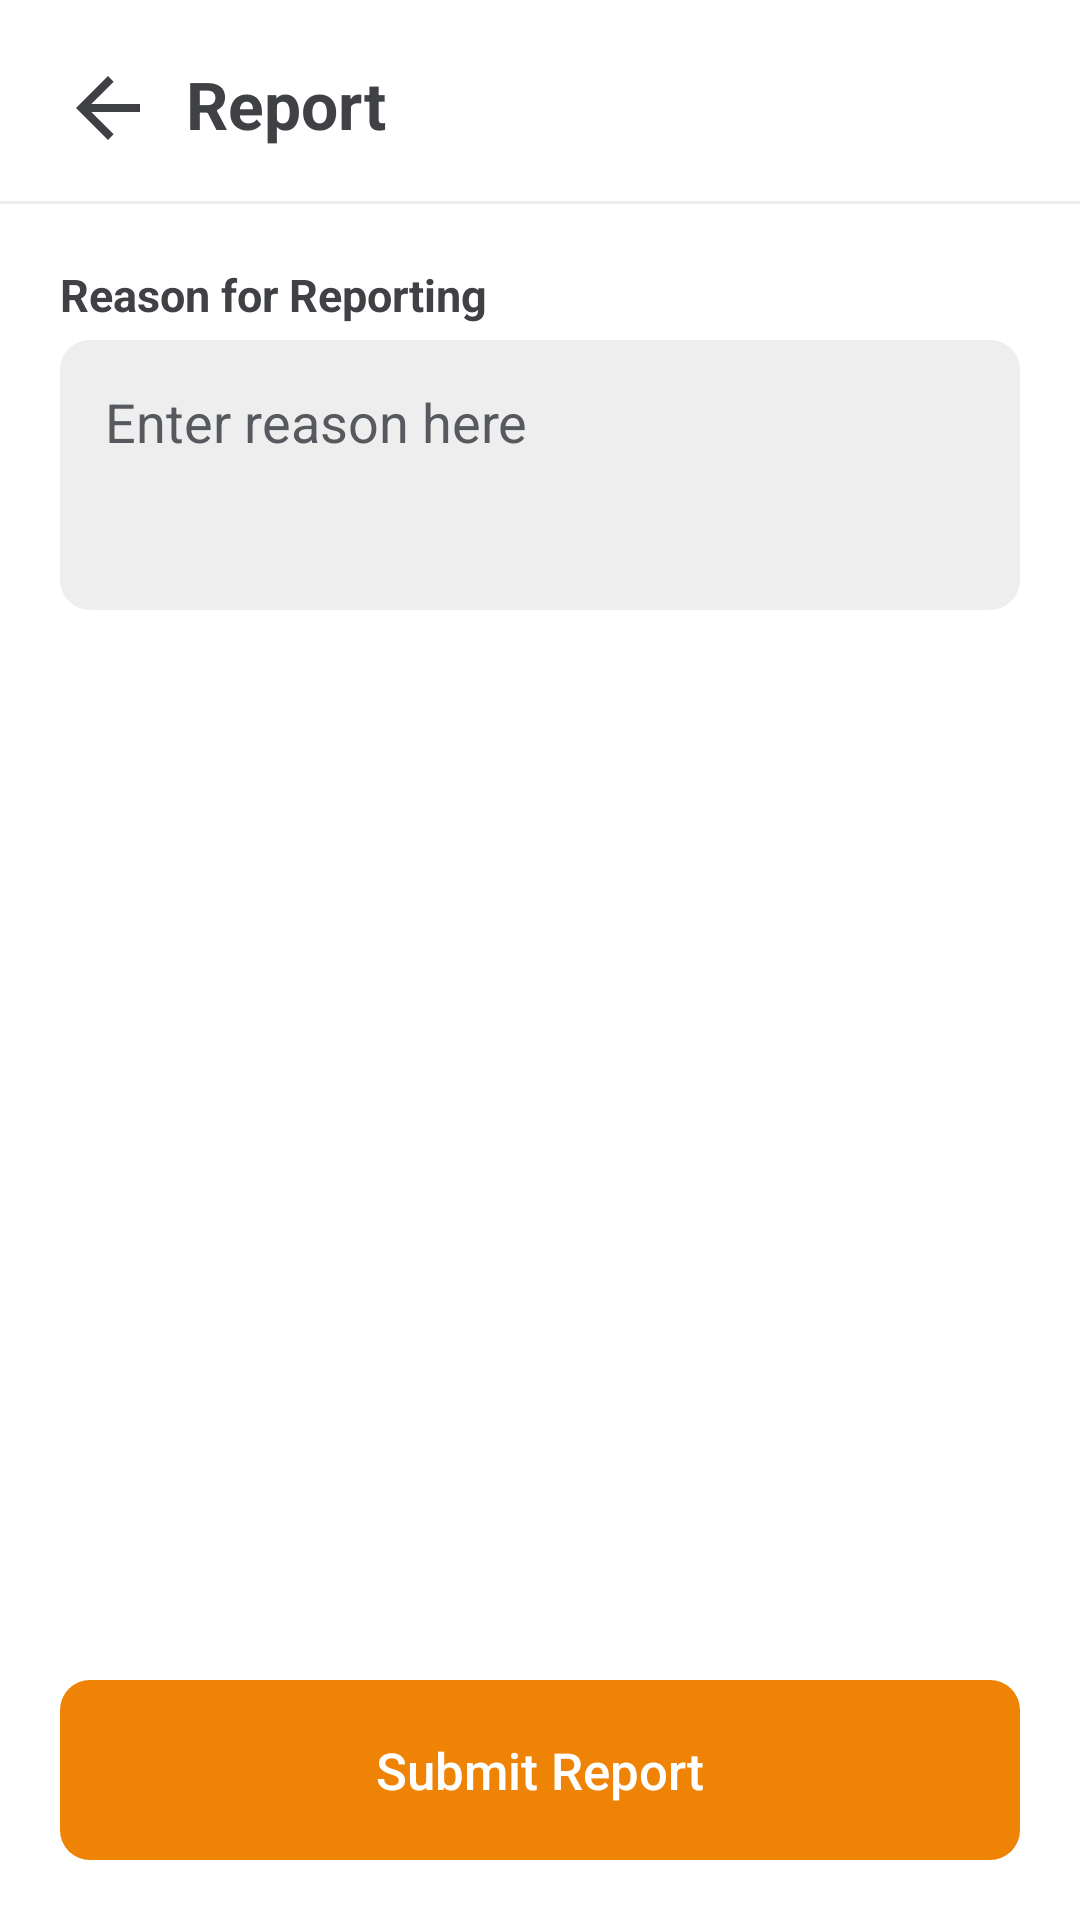

Screen size 1080 × 1920. Icon name, then its center in pixels as (x,y):
arrow back: (108,108)
